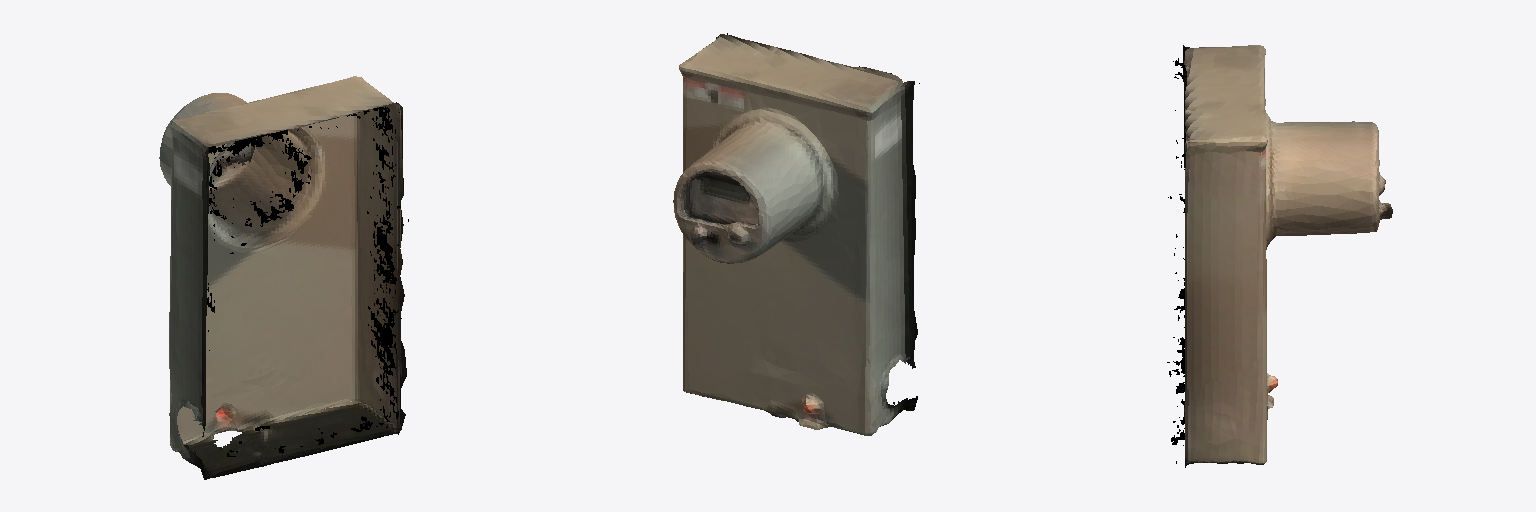
3 views of the same model, side by side, from view 1: azimuth 30°, elevation 25°; view 2: azimuth 150°, elevation 25°; view 3: azimuth 270°, elevation 25° (orthographic).
Visible parts, largest first — view 1: ElectricRoom_HouseMeter; view 2: ElectricRoom_HouseMeter; view 3: ElectricRoom_HouseMeter.
Boxes of the visible parts, box(x1,y1,x2,y2) form: ElectricRoom_HouseMeter: box(159, 76, 408, 479); ElectricRoom_HouseMeter: box(673, 33, 919, 435); ElectricRoom_HouseMeter: box(1167, 45, 1392, 467).
Size of the model in its own units: 0.3405 by 0.5223 by 0.3233.
1 materials, 1 textured.